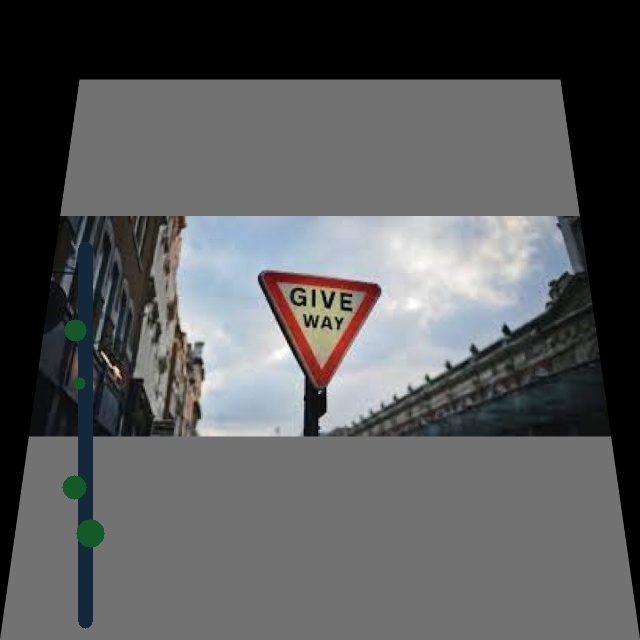Give_Way: (264, 269, 382, 386)
